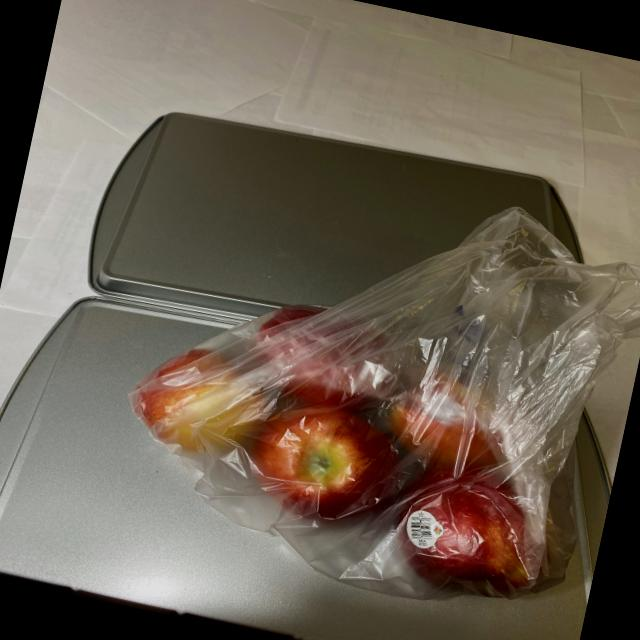apple: (113, 241, 608, 616)
